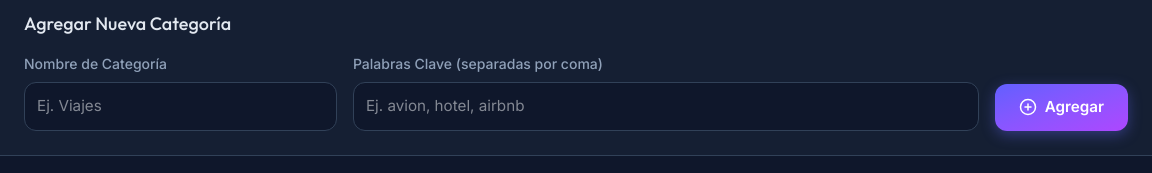
it: CategoryForm component › should clear input fields upon successful rule creation
Step 1. Type "Ocio" into the field labelled "Nombre de Categoría" → x=180, y=106, box [24,82,337,131]
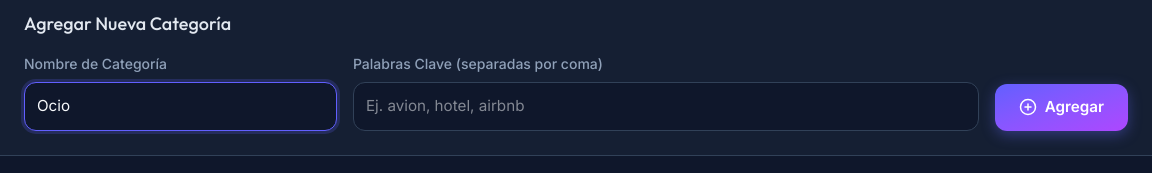
Step 2. Type "cine, bar" into the field labelled "Palabras Clave (separadas por coma)" → x=666, y=106, box [353,82,979,131]
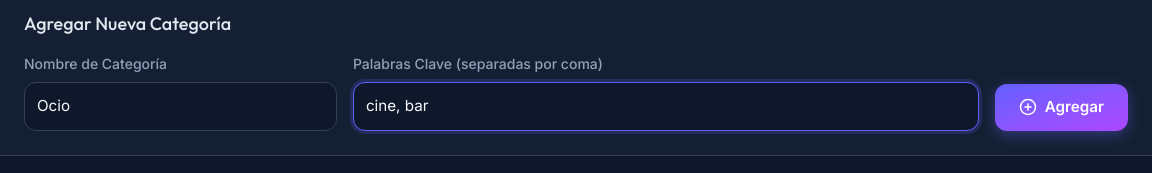
Step 3. Click the button "Agregar" → x=1061, y=107, box [995,84,1128,131]
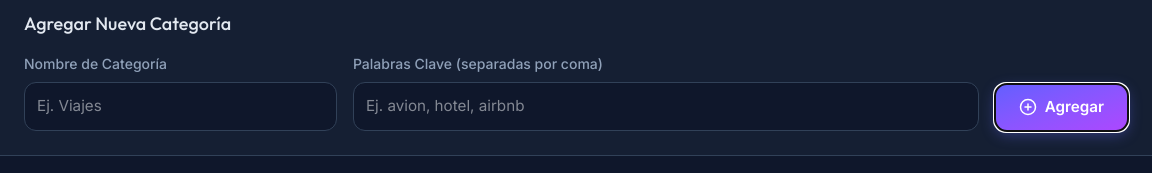
Check: the field labelled "Nombre de Categoría" is empty, box [24,82,337,131]
Check: the field labelled "Palabras Clave (separadas por coma)" is empty, box [353,82,979,131]
